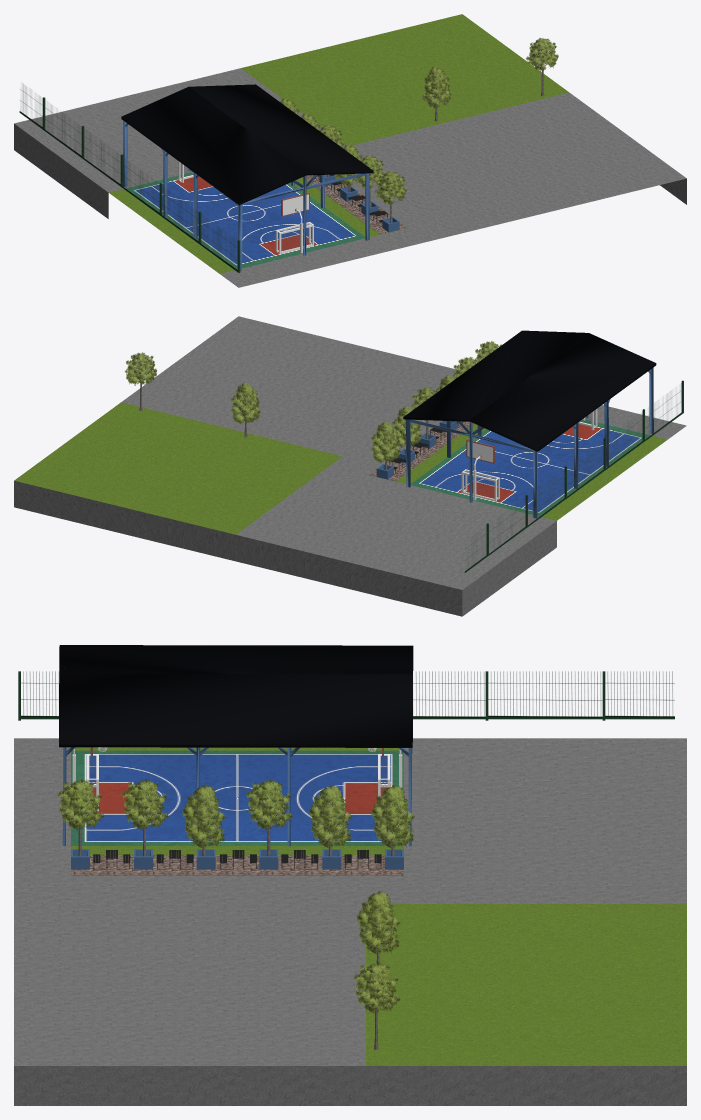
Rendered from cancha-baskOP.glb.
The picture shows the model from 3 angles, top to bottom: view 1: azimuth 30°, elevation 25°; view 2: azimuth 150°, elevation 25°; view 3: azimuth 270°, elevation 25°; orthographic projection. The views are drawn at different scales.
Parts seen in each view (by area): view 1: ConcretoCanchas, macetitas, roof, arbol_peque, Estructura, RejaVerde, Canastass; view 2: ConcretoCanchas, macetitas, roof, arbol_peque, Estructura, RejaVerde, Canastass; view 3: ConcretoCanchas, macetitas, roof, arbol_peque, RejaVerde, Estructura, Benches, Canastass.
Boxes of the visible parts, x1=… form: ConcretoCanchas: x1=14, y1=68, x2=686, y2=287; macetitas: x1=109, y1=14, x2=568, y2=273; roof: x1=121, y1=84, x2=373, y2=205; arbol_peque: x1=280, y1=37, x2=558, y2=222; Estructura: x1=123, y1=121, x2=399, y2=271; RejaVerde: x1=19, y1=84, x2=240, y2=272; Canastass: x1=178, y1=161, x2=313, y2=253; ConcretoCanchas: x1=14, y1=316, x2=686, y2=616; macetitas: x1=14, y1=402, x2=667, y2=534; roof: x1=403, y1=330, x2=656, y2=451; arbol_peque: x1=125, y1=341, x2=501, y2=470; Estructura: x1=376, y1=367, x2=653, y2=518; RejaVerde: x1=464, y1=380, x2=683, y2=572; Canastass: x1=461, y1=409, x2=597, y2=501; ConcretoCanchas: x1=14, y1=738, x2=686, y2=1105; macetitas: x1=71, y1=747, x2=686, y2=1065; roof: x1=59, y1=645, x2=413, y2=747; arbol_peque: x1=57, y1=779, x2=414, y2=1049; RejaVerde: x1=18, y1=671, x2=674, y2=720; Estructura: x1=62, y1=668, x2=412, y2=869; Benches: x1=93, y1=850, x2=381, y2=869; Canastass: x1=72, y1=747, x2=402, y2=811.
Size of the model in its own units: 0.5175 by 0.1215 by 0.4491.
17 materials, 14 textured.
